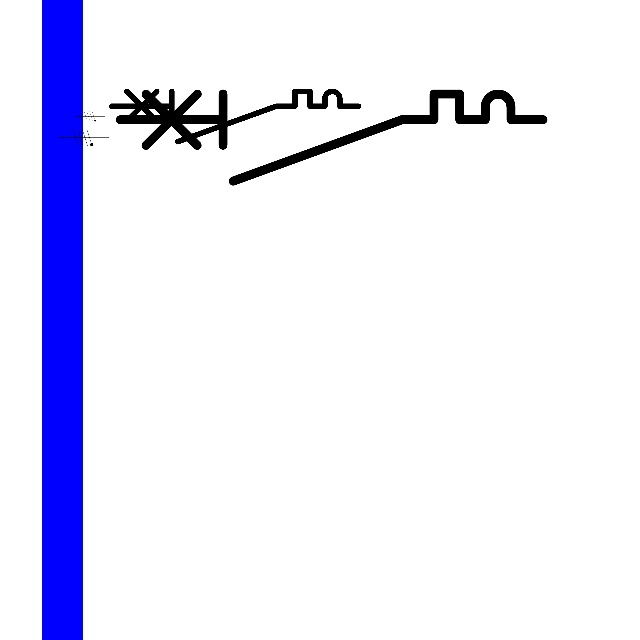interruptor_termomagnetico: (109, 83, 553, 191), (105, 85, 364, 148)
